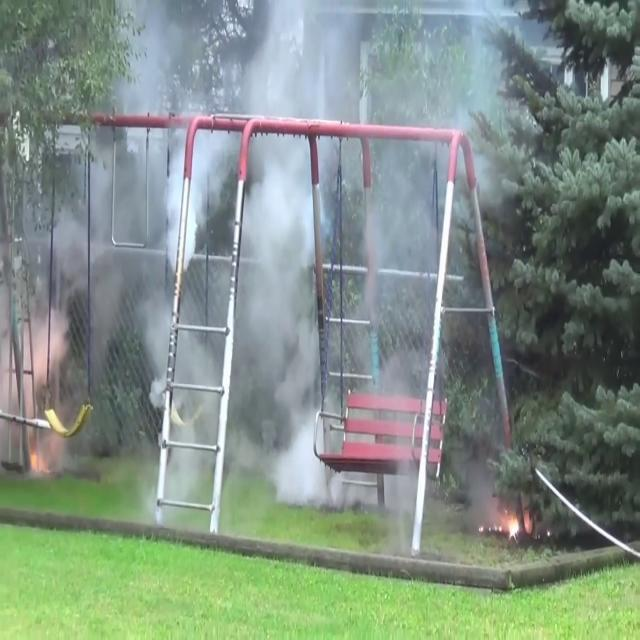Fire: (495, 498, 533, 546)
Smoke: (32, 0, 530, 468)
